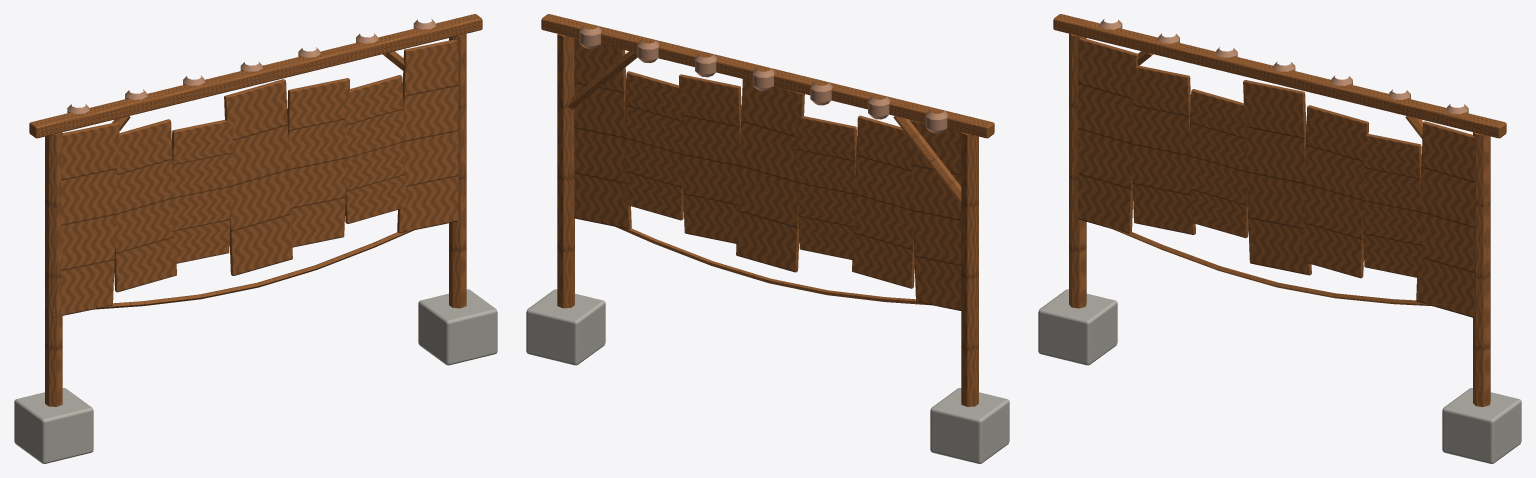
Rendered from greek-island-village-and-harbour-net-drying-frame-41384c54__37111.glb.
3 views of the same model, side by side, from view 1: azimuth 30°, elevation 25°; view 2: azimuth 150°, elevation 25°; view 3: azimuth 330°, elevation 25° (orthographic).
Visible parts, largest first — view 1: net-drying-frame; view 2: net-drying-frame; view 3: net-drying-frame.
Boxes of the visible parts, bbox=[...] form: net-drying-frame: bbox=[14, 14, 497, 463]; net-drying-frame: bbox=[526, 14, 1009, 463]; net-drying-frame: bbox=[1038, 14, 1521, 463].
Size of the model in its own units: 3.16 by 2.21 by 0.3599.
Materials: 3 (3 with a texture image).
